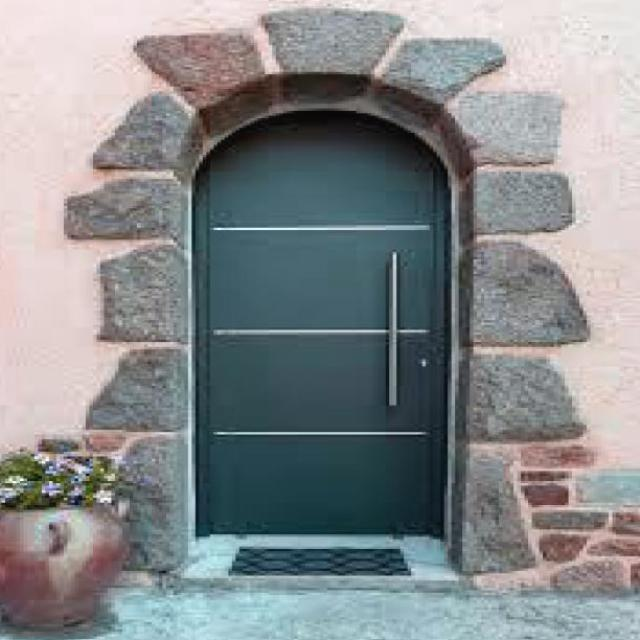door: (194, 110, 449, 538)
